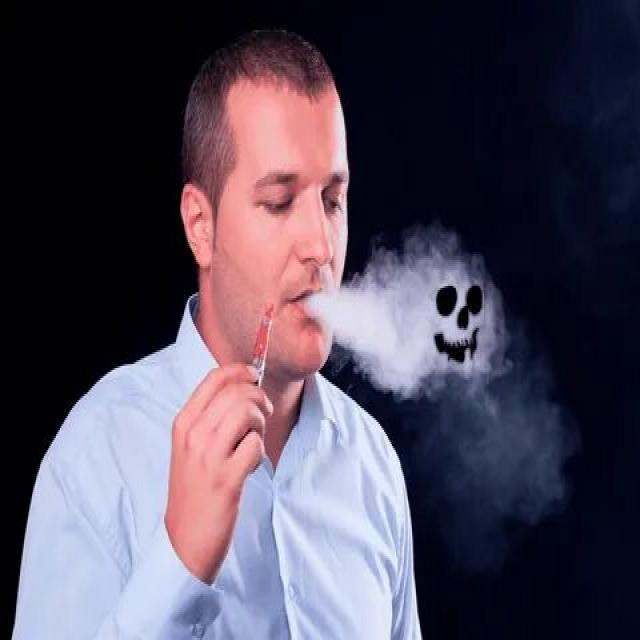smoke: (248, 296, 276, 398)
